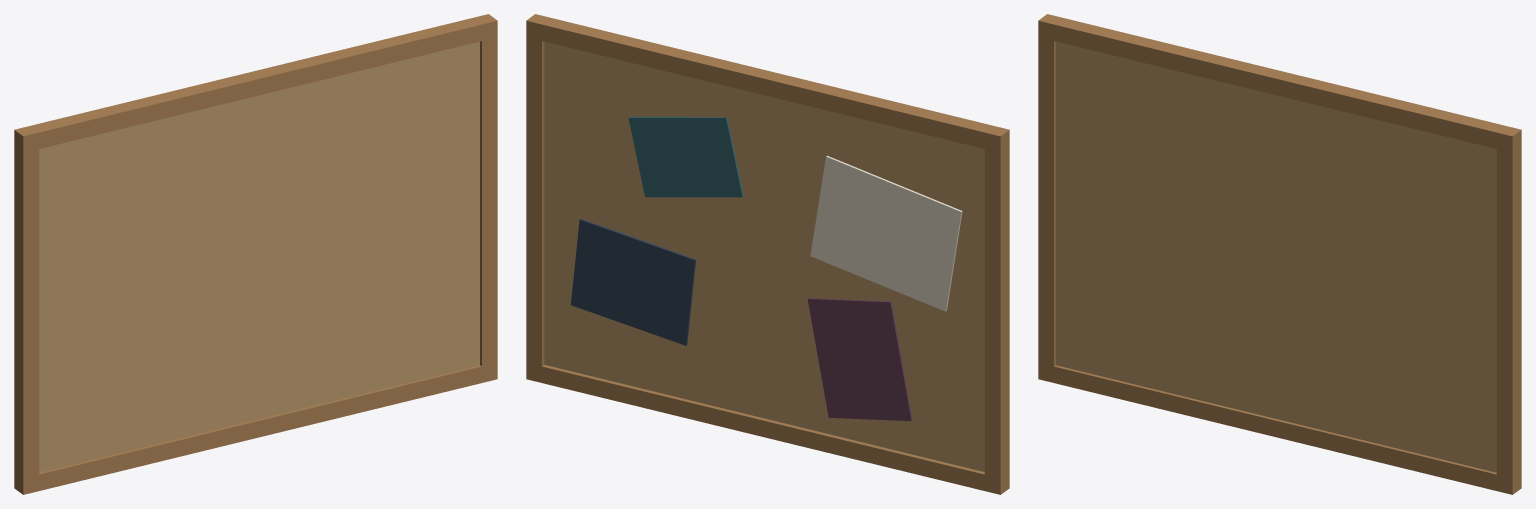
File: FN_Board_Pin.obj
3 renders of one model, left to right at view 1: azimuth 30°, elevation 25°; view 2: azimuth 150°, elevation 25°; view 3: azimuth 330°, elevation 25°, orthographic.
Parts seen in each view (by area): view 1: FN_Board_Pin; view 2: FN_Board_Pin; view 3: FN_Board_Pin.
Boxes of the visible parts, box(x1,y1,x2,y2) form: FN_Board_Pin: box(14, 14, 497, 494); FN_Board_Pin: box(526, 14, 1009, 494); FN_Board_Pin: box(1038, 14, 1521, 494).
Size of the model in its own units: 0.9 by 0.65 by 0.03.
Materials: 1 (1 with a texture image).
